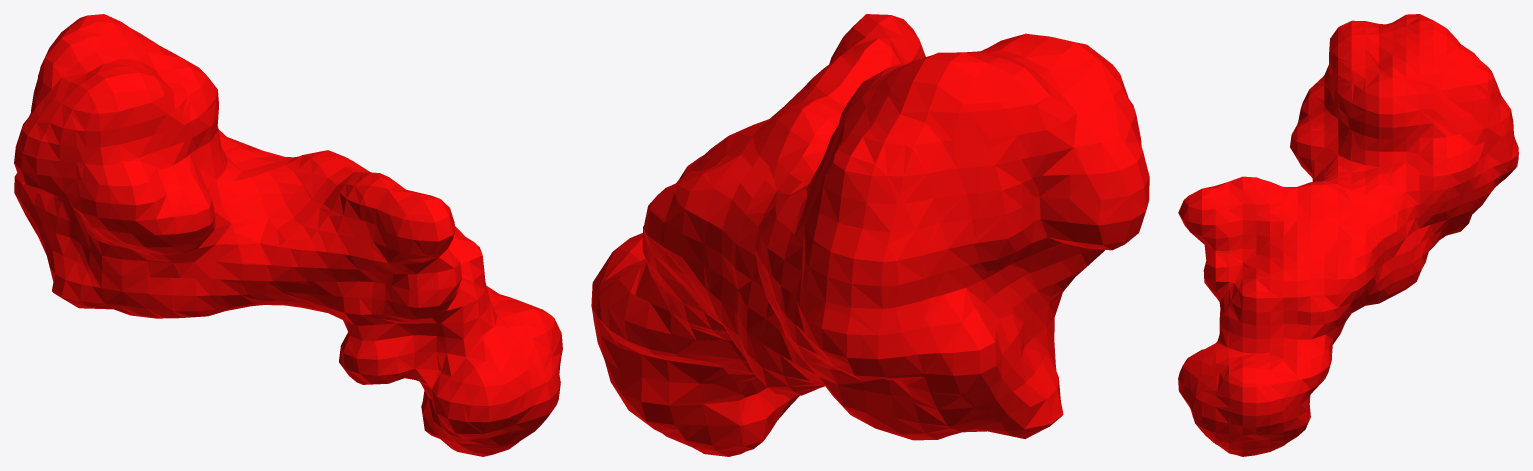
File: fumC_coarse.dae
3 renders of one model, left to right at view 1: azimuth 30°, elevation 25°; view 2: azimuth 150°, elevation 25°; view 3: azimuth 270°, elevation 25°, orthographic. The views are drawn at different scales.
Visible parts, largest first — view 1: fumC; view 2: fumC; view 3: fumC.
Boxes of the visible parts, <box> form: fumC: <box>14,14,562,456</box>; fumC: <box>591,14,1149,456</box>; fumC: <box>1178,14,1518,456</box>.
Size of the model in its own units: 90.37 by 79.6 by 74.64.
